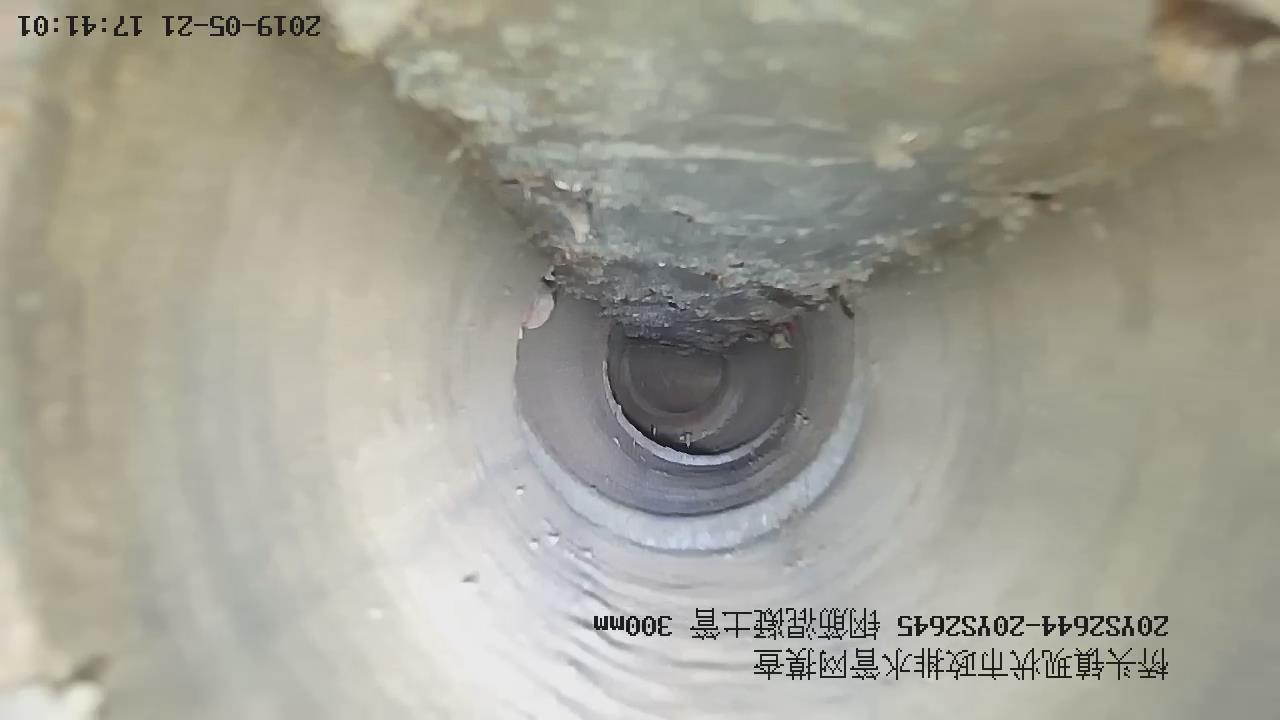CJ: (356, 1, 1280, 349)
CKTJ: (528, 373, 868, 551), (606, 378, 779, 467)
